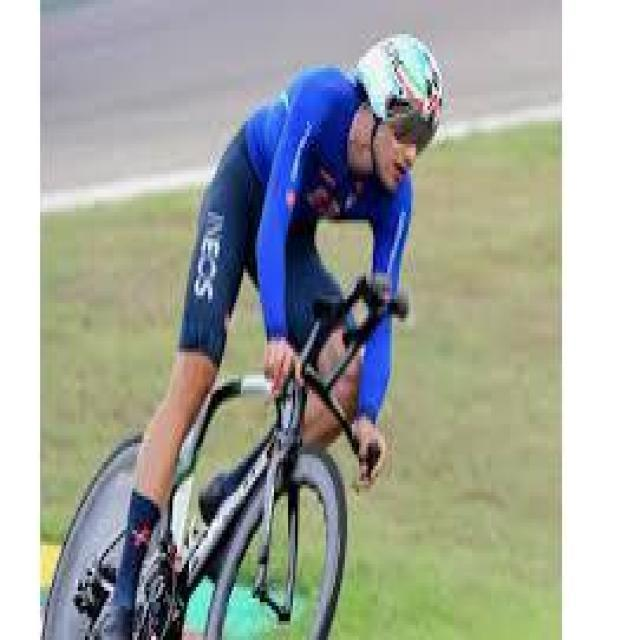bicycle: (46, 316, 374, 634)
